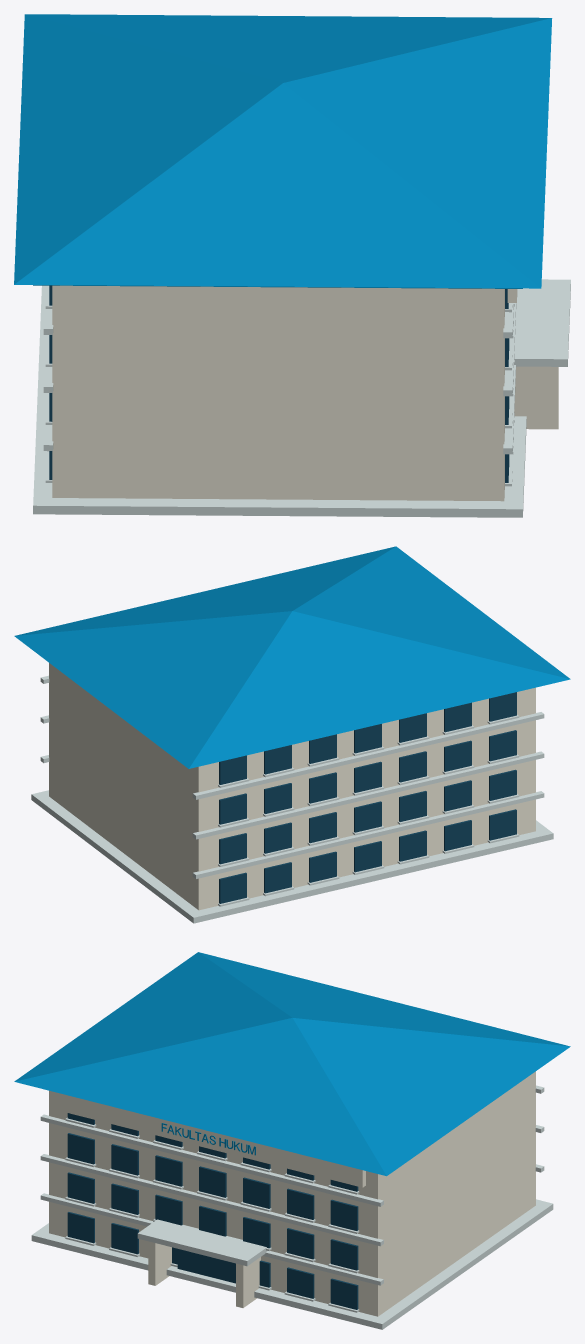
Rendered from fakultas-hukum.glb.
The picture shows the model from 3 angles, top to bottom: view 1: azimuth 30°, elevation 25°; view 2: azimuth 150°, elevation 25°; view 3: azimuth 270°, elevation 25°; orthographic projection. The views are drawn at different scales.
Parts seen in each view (by area): view 1: Fakultas_Hukum_blue, Fakultas_Hukum_ivory, Fakultas_Hukum_trim, Fakultas_Hukum_glass; view 2: Fakultas_Hukum_blue, Fakultas_Hukum_ivory, Fakultas_Hukum_glass, Fakultas_Hukum_trim; view 3: Fakultas_Hukum_blue, Fakultas_Hukum_ivory, Fakultas_Hukum_trim, Fakultas_Hukum_glass.
Boxes of the visible parts, bbox=[...] form: Fakultas_Hukum_blue: bbox=[14, 14, 552, 288]; Fakultas_Hukum_ivory: bbox=[52, 285, 558, 501]; Fakultas_Hukum_trim: bbox=[33, 279, 570, 517]; Fakultas_Hukum_glass: bbox=[49, 285, 509, 482]; Fakultas_Hukum_blue: bbox=[14, 546, 570, 768]; Fakultas_Hukum_ivory: bbox=[49, 663, 535, 910]; Fakultas_Hukum_glass: bbox=[219, 692, 516, 903]; Fakultas_Hukum_trim: bbox=[31, 675, 553, 923]; Fakultas_Hukum_blue: bbox=[14, 952, 570, 1176]; Fakultas_Hukum_ivory: bbox=[49, 1071, 535, 1316]; Fakultas_Hukum_trim: bbox=[31, 1085, 553, 1329]; Fakultas_Hukum_glass: bbox=[67, 1113, 358, 1309].
Bounding box in the file's own units: 41.5 × 18.15 × 43.56.
